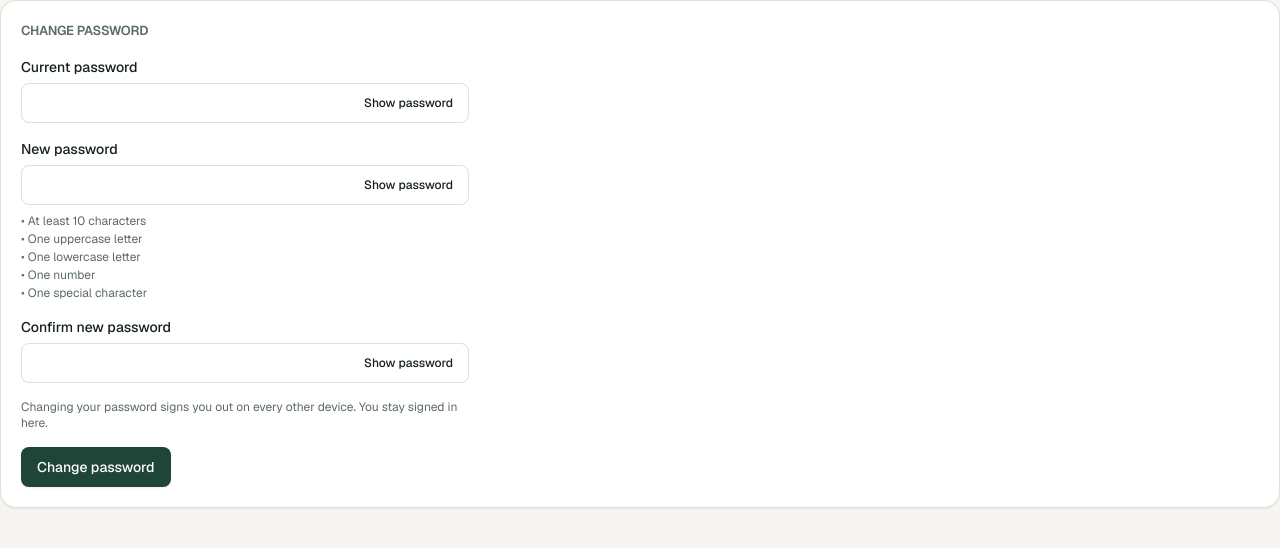
Test: ChangePasswordCard › rejects a new password equal to the current one
Type "Current-Password-123!" into the password field labelled "Current password" at (245, 102), box [21,82,469,122]
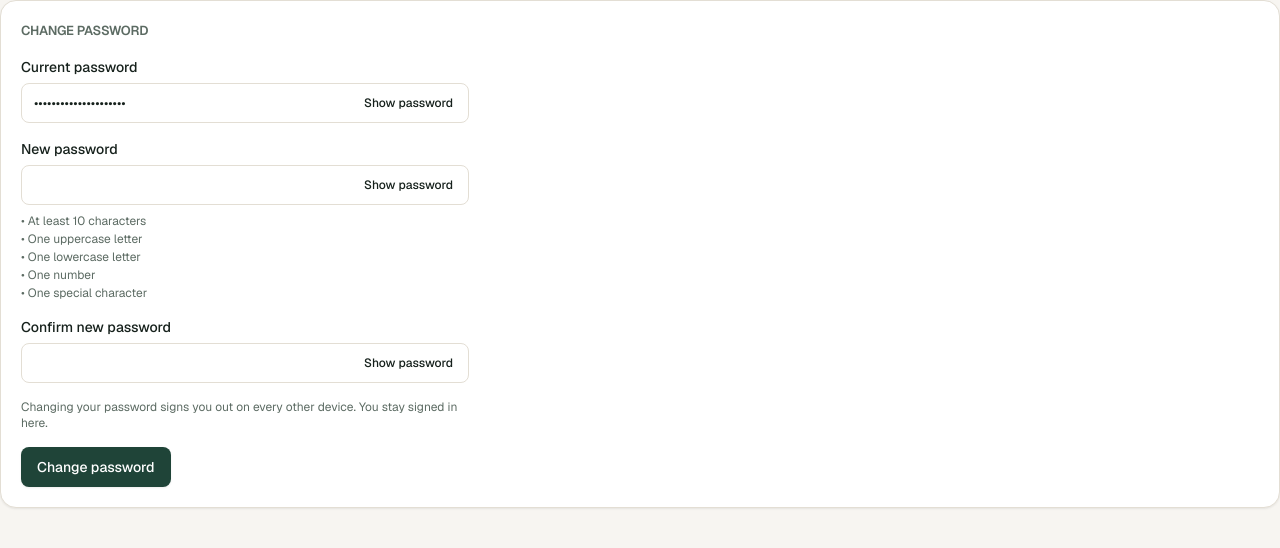
Type "Current-Password-123!" into the password field labelled "New password" at (245, 184), box [21,164,469,204]
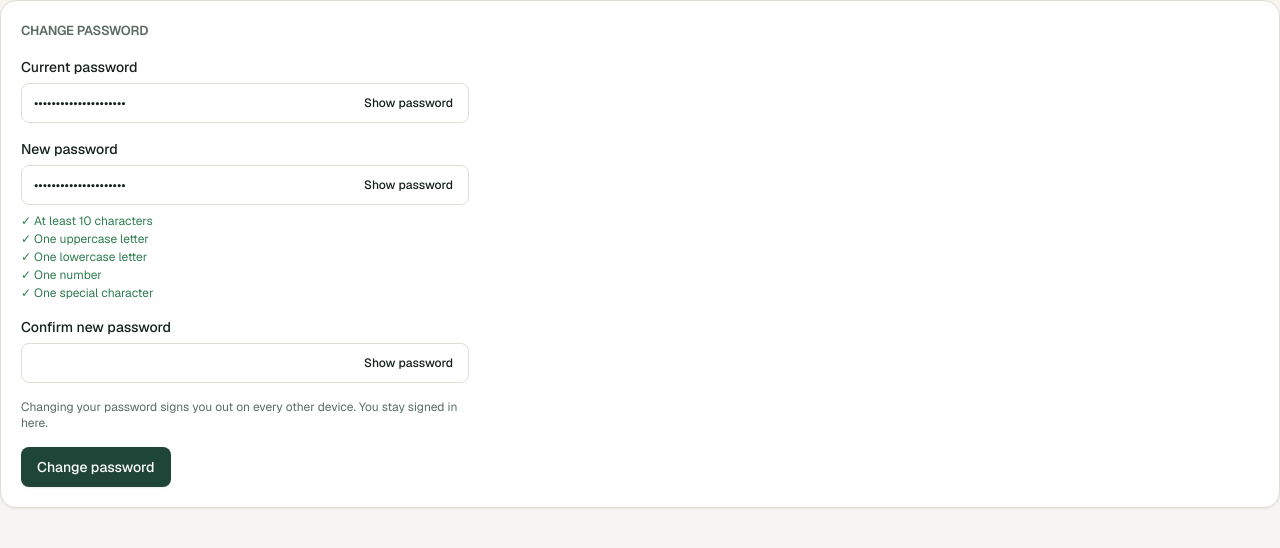
Type "Current-Password-123!" into the password field labelled "Confirm new password" at (245, 362), box [21,342,469,382]
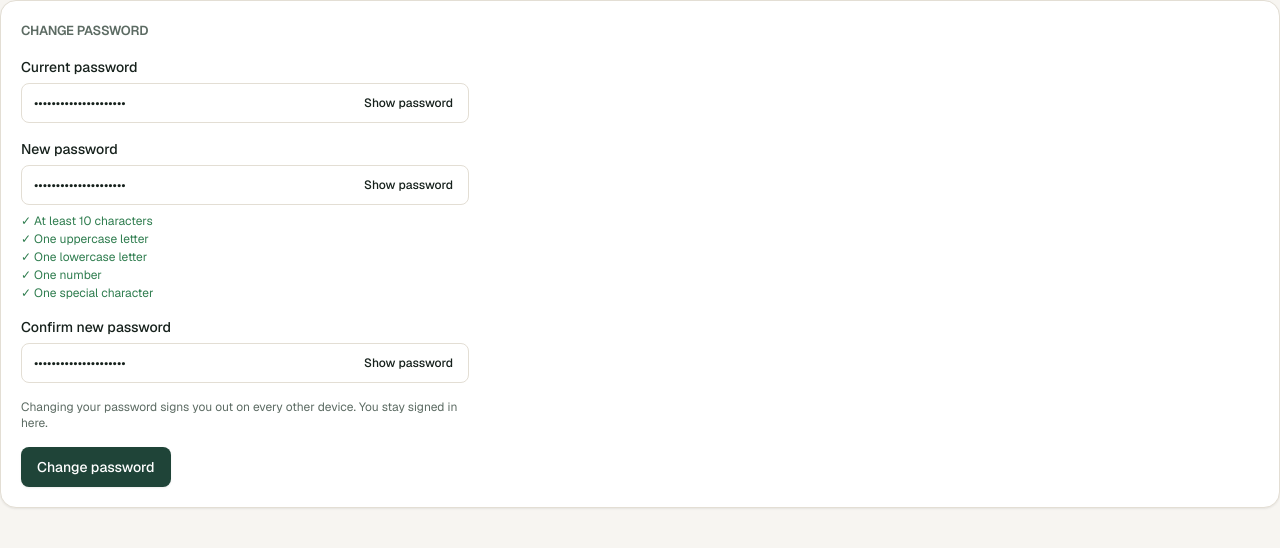
Click the button "Change password" at (96, 466), box [21,446,170,486]
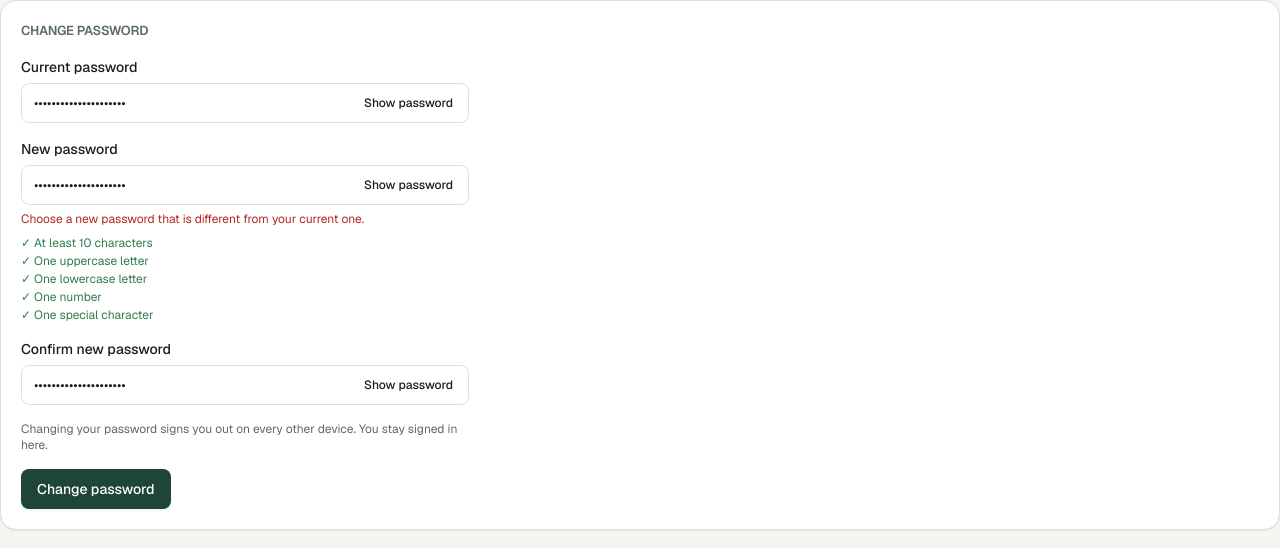
Expected: the text "different from your current one" is shown, [21,210,364,226]
